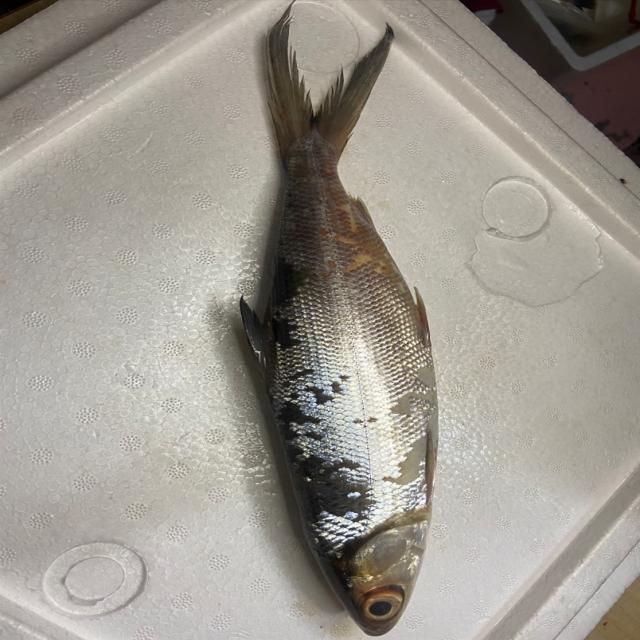Bangus-F -6-10-: (214, 0, 482, 640)
Eye-5-: (355, 587, 409, 627)
Skin-4-: (246, 154, 440, 540)
